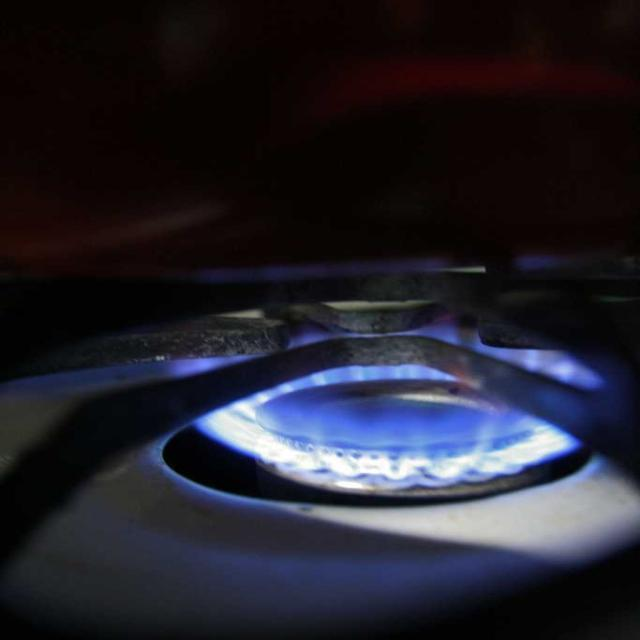Fire: (232, 325, 597, 485)
